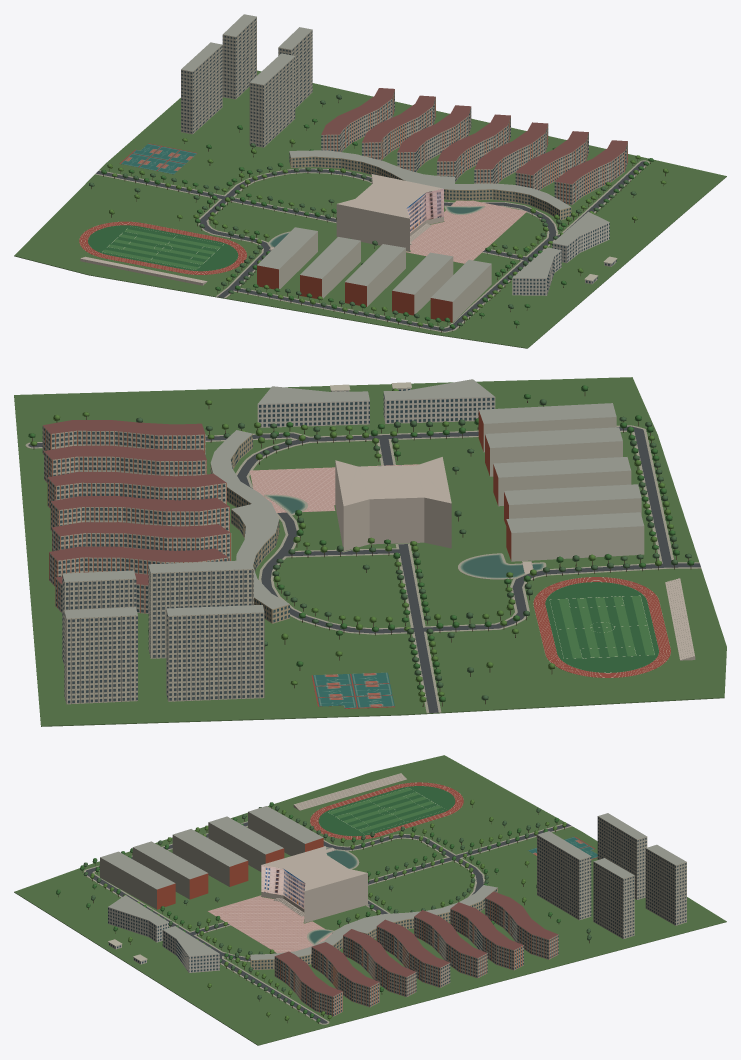
Rendered from campus.glb.
3 renders of one model, top to bottom at view 1: azimuth 30°, elevation 25°; view 2: azimuth 150°, elevation 25°; view 3: azimuth 270°, elevation 25°, orthographic. The views are drawn at different scales.
Parts seen in each view (by area): view 1: Campus_ground, B12_arcade, B13_library, Library_south_plaza, Campus_roads, B04_tower, B03_tower, Campus_walkways, B01_tower, B11_dorm, B07_dorm, B05_dorm (+19 smaller); view 2: Campus_ground, B03_tower, B13_library, Campus_roads, B01_tower, B15_teaching, B04_tower, B12_arcade, Campus_walkways, B08_dorm, B07_dorm, B09_dorm (+30 smaller); view 3: Campus_ground, B13_library, B04_tower, Library_south_plaza, B01_tower, B02_tower, B12_arcade, B03_tower, B19_teaching, B17_teaching, B09_dorm, B07_dorm (+20 smaller).
Boxes of the visible parts, x1,y1,x2,y2 form: Campus_ground: [14, 70, 726, 348]; B12_arcade: [289, 150, 571, 220]; B13_library: [336, 174, 443, 249]; Library_south_plaza: [406, 200, 526, 263]; Campus_roads: [96, 161, 644, 331]; B04_tower: [249, 53, 295, 147]; B03_tower: [181, 42, 222, 134]; Campus_walkways: [95, 160, 649, 332]; B01_tower: [222, 14, 256, 99]; B11_dorm: [554, 140, 627, 205]; B07_dorm: [397, 105, 471, 171]; B05_dorm: [321, 88, 394, 152]; Campus_ground: [14, 377, 726, 726]; B03_tower: [166, 605, 264, 701]; B13_library: [335, 457, 451, 548]; Campus_roads: [28, 426, 700, 712]; B01_tower: [64, 607, 137, 704]; B15_teaching: [506, 512, 644, 561]; B04_tower: [148, 560, 253, 658]; B12_arcade: [210, 430, 289, 623]; Campus_walkways: [25, 425, 701, 713]; B08_dorm: [50, 496, 229, 531]; B07_dorm: [52, 522, 231, 560]; B09_dorm: [47, 472, 226, 508]; Campus_ground: [14, 755, 726, 1045]; B13_library: [261, 846, 367, 921]; B04_tower: [537, 831, 591, 920]; Library_south_plaza: [207, 895, 331, 953]; B01_tower: [645, 844, 686, 925]; B02_tower: [593, 858, 634, 938]; B12_arcade: [250, 885, 497, 969]; B03_tower: [597, 813, 647, 899]; B19_teaching: [100, 851, 175, 909]; B17_teaching: [172, 829, 248, 886]; B09_dorm: [343, 929, 416, 997]; B07_dorm: [414, 910, 487, 978].
Size of the model in its own units: 722 by 71.44 by 750.
33 materials, 15 textured.
